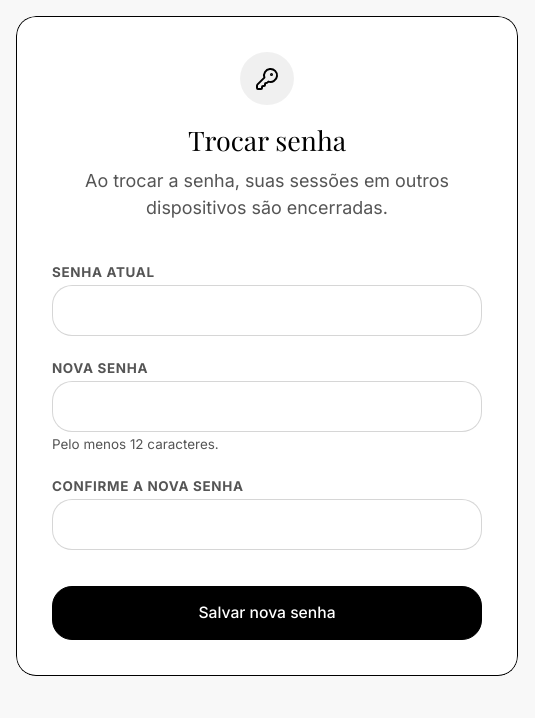
Scenario: ChangePasswordForm › validação local antes de enviar (curta)
This screenshot has width=535, height=718.
Type "atual-qualquer" into the password field labelled "Senha atual" at (267, 310), box [52,285,482,336]
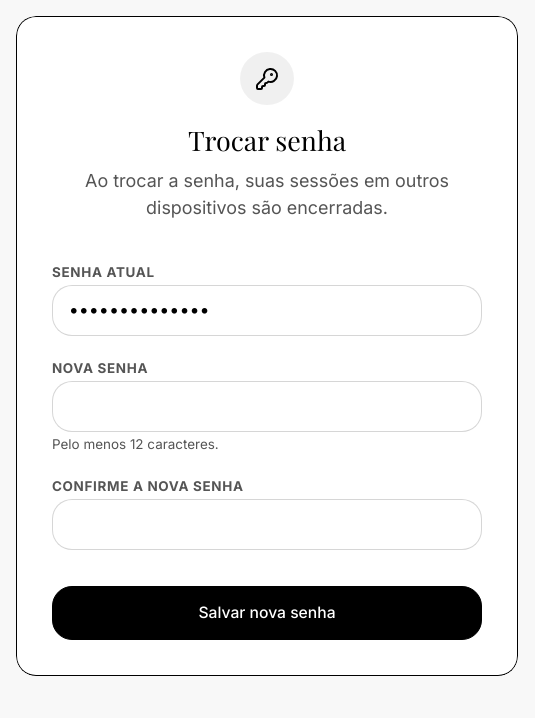
Type "curta" into the password field labelled "Nova senha" at (267, 406), box [52,381,482,432]
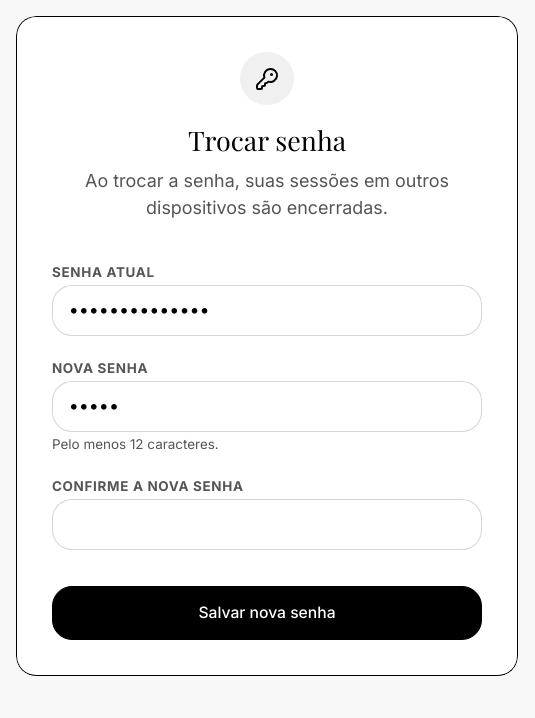
Type "curta" into the password field labelled "Confirme a nova senha" at (267, 525), box [52,499,482,550]
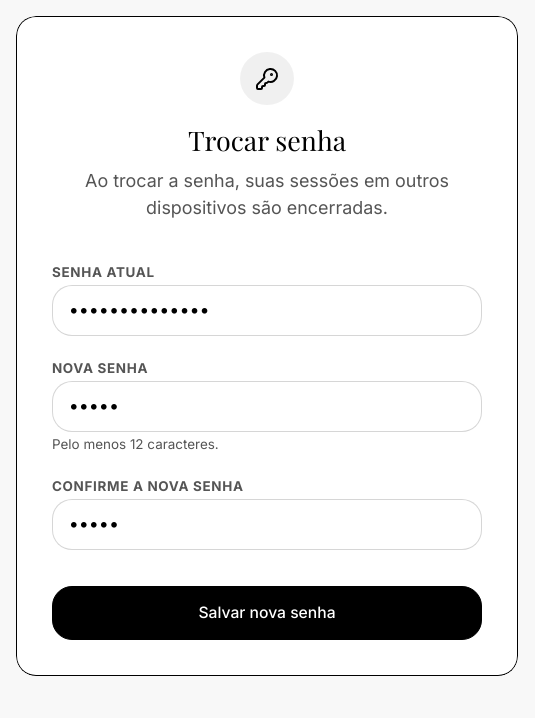
Click the button "Salvar nova senha" at (267, 613), box [52,586,482,640]
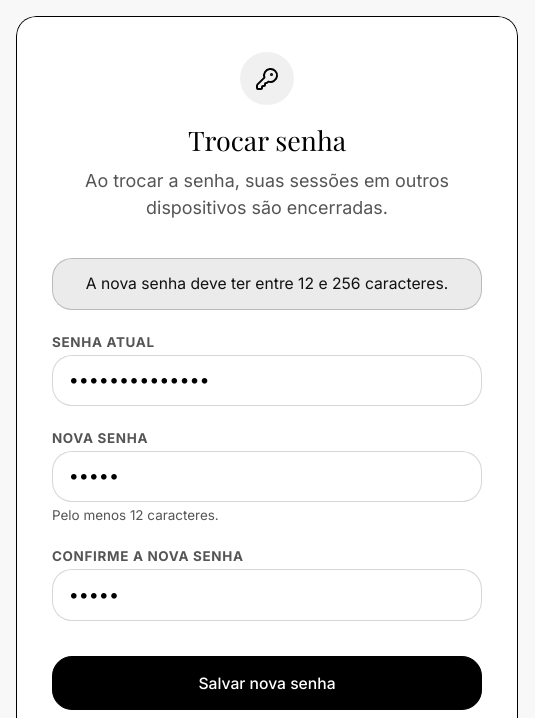
Expected: the message shows "entre 12 e 256", [86,274,448,293]
